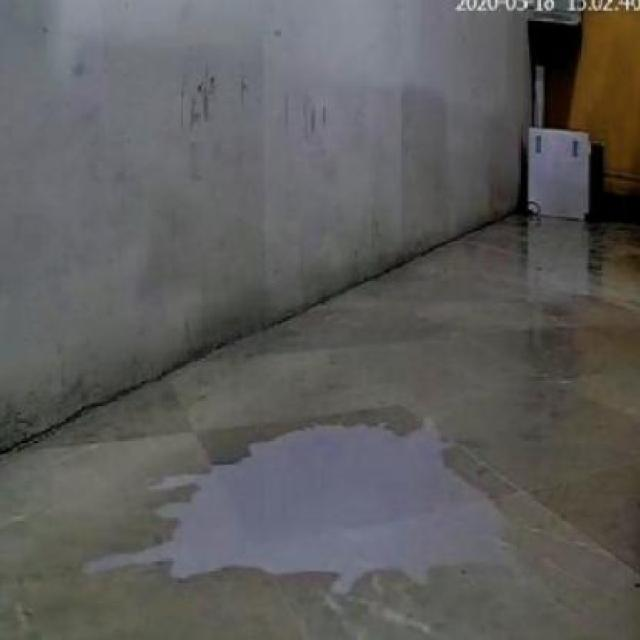spillage: (79, 426, 508, 594)
